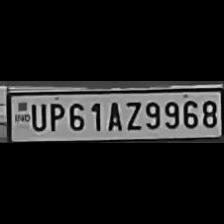1: (86, 99, 104, 131)
6: (64, 99, 86, 131), (180, 97, 198, 129)
8: (198, 96, 218, 128)
9: (142, 98, 160, 130), (161, 97, 179, 129)
A: (104, 99, 122, 131)
P: (46, 100, 64, 132)
U: (28, 101, 46, 131)
Z: (122, 98, 142, 132)
